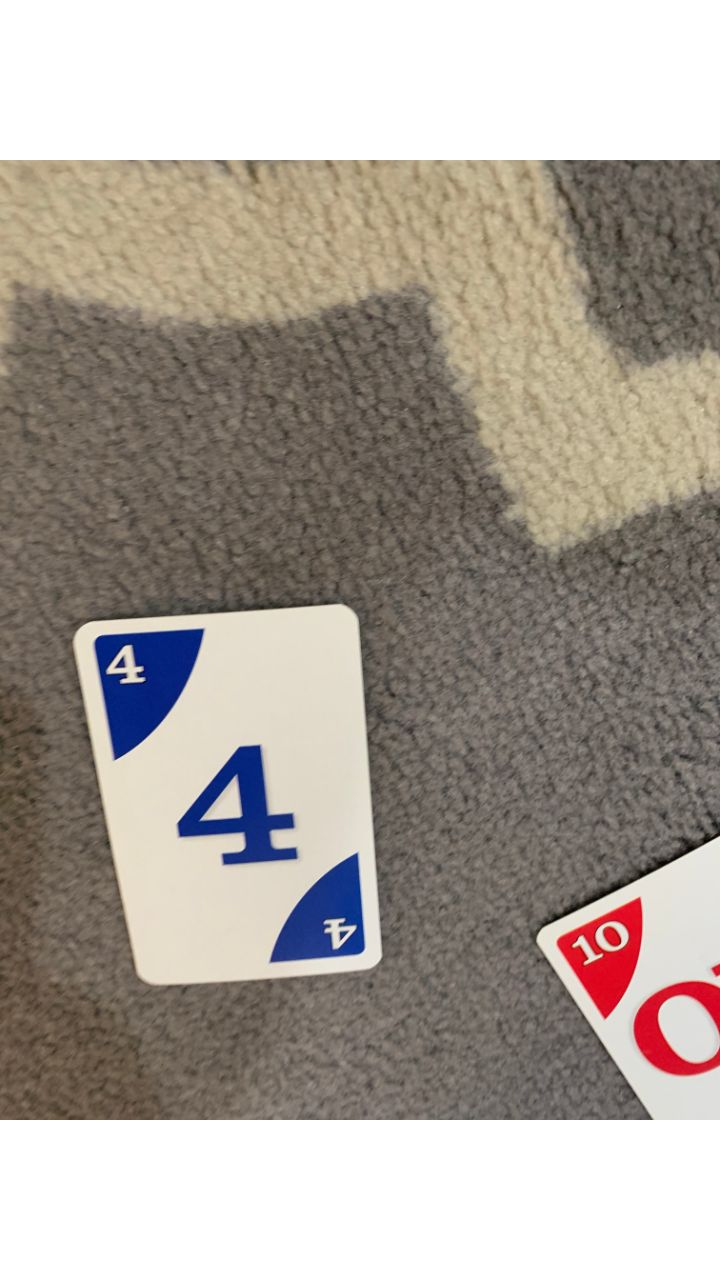four: (67, 602, 382, 988)
